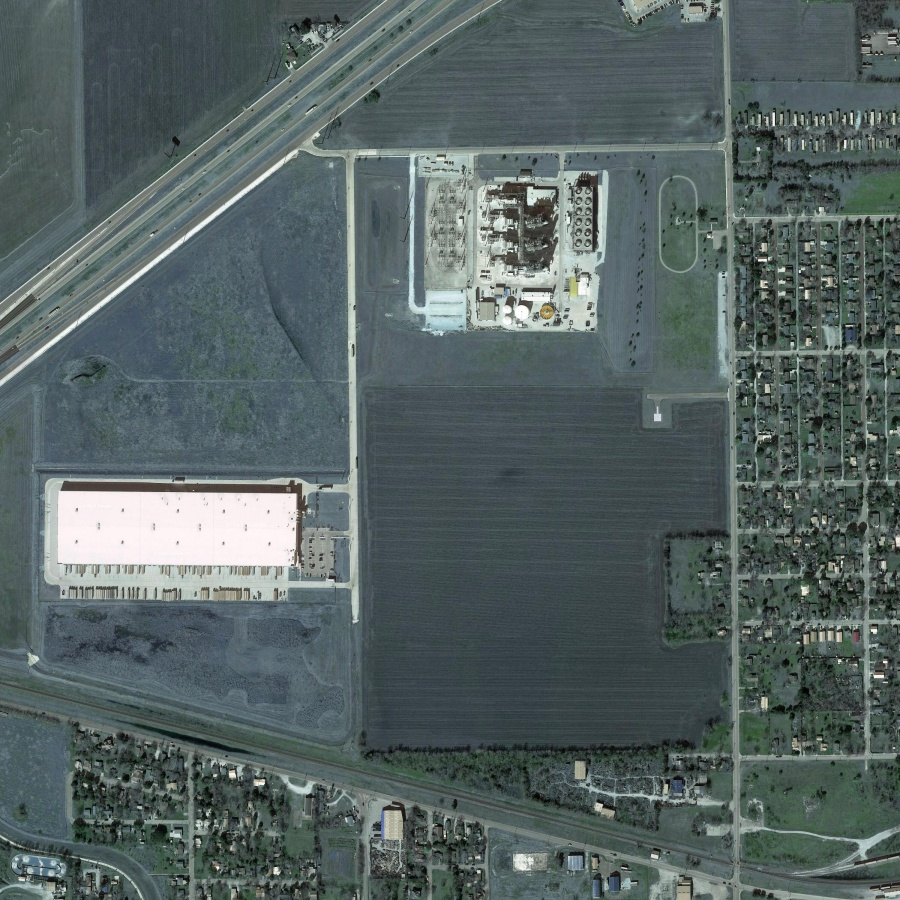PowerPlant: (411, 149, 605, 338)
